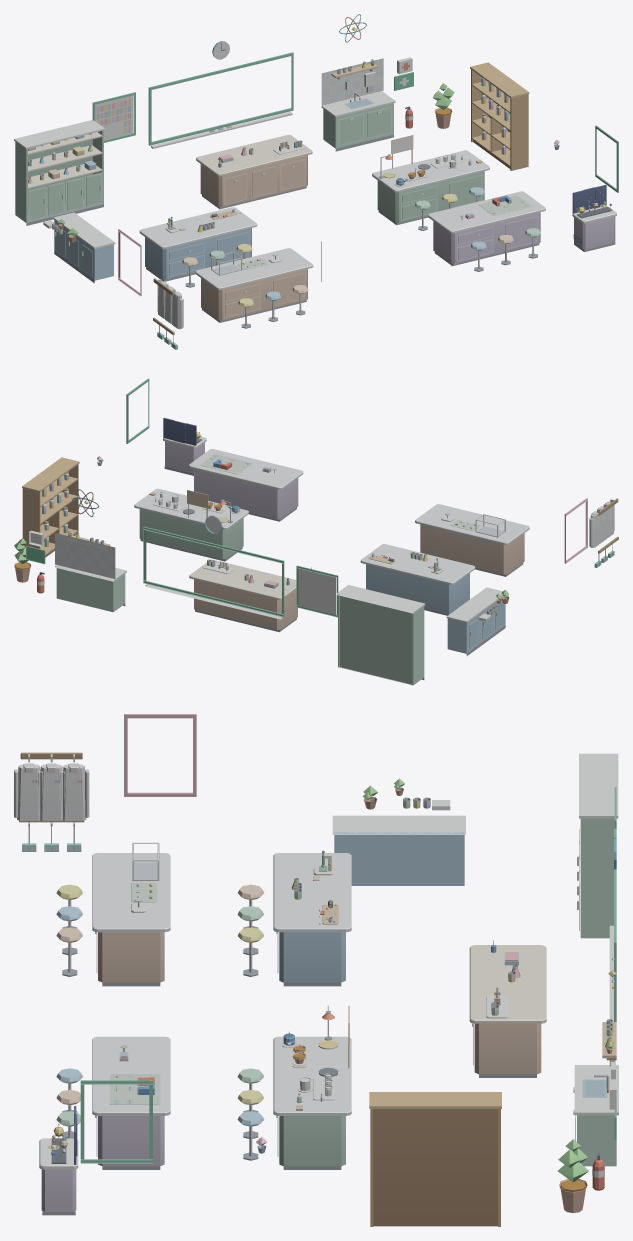
The model's file is makmal_interior_props.glb.
3 views of the same model, one above another, from view 1: azimuth 30°, elevation 25°; view 2: azimuth 150°, elevation 25°; view 3: azimuth 270°, elevation 25° (orthographic). The views are drawn at different scales.
Parts seen in each view (by area): view 1: kabinet_radas_1, meja_guru, meja_makmal_3, meja_makmal_1, meja_makmal_4, meja_makmal_2, rak_balang, sinki_makmal, lalu_bingkai, kabinet_rendah, model_suria, lalu_ubin_sinki (+7 smaller); view 2: kabinet_radas_1, meja_makmal_3, meja_guru, meja_makmal_1, meja_makmal_4, meja_makmal_2, rak_balang, kabinet_rendah, lalu_bingkai, sinki_makmal, lalu_ubin_sinki, lalu_carta_berkala (+7 smaller); view 3: rak_balang, meja_makmal_1, meja_makmal_3, meja_makmal_2, meja_guru, meja_makmal_4, kabinet_rendah, kabinet_radas_1, rak_kot, sinki_makmal, lalu_bingkai, model_suria (+5 smaller).
Boxes of the visible parts, <box> form: kabinet_radas_1: <box>14,120,105,225</box>; meja_guru: <box>196,134,312,209</box>; meja_makmal_3: <box>195,248,313,328</box>; meja_makmal_1: <box>139,207,257,287</box>; meja_makmal_4: <box>428,191,545,271</box>; meja_makmal_2: <box>372,150,489,230</box>; rak_balang: <box>470,62,529,170</box>; sinki_makmal: <box>321,91,395,151</box>; lalu_bingkai: <box>118,52,618,296</box>; kabinet_rendah: <box>53,212,115,283</box>; model_suria: <box>572,185,616,251</box>; lalu_ubin_sinki: <box>321,58,383,105</box>; kabinet_radas_1: <box>336,585,425,685</box>; meja_makmal_3: <box>415,504,529,576</box>; meja_guru: <box>189,559,297,632</box>; meja_makmal_1: <box>360,544,475,615</box>; meja_makmal_4: <box>188,449,303,521</box>; meja_makmal_2: <box>134,488,248,561</box>; rak_balang: <box>22,457,79,557</box>; kabinet_rendah: <box>446,587,505,655</box>; lalu_bingkai: <box>126,378,587,619</box>; sinki_makmal: <box>55,565,126,612</box>; lalu_ubin_sinki: <box>55,533,115,578</box>; lalu_carta_berkala: <box>296,565,338,617</box>; rak_balang: <box>369,1092,501,1226</box>; meja_makmal_1: <box>237,853,351,986</box>; meja_makmal_3: <box>56,853,170,986</box>; meja_makmal_2: <box>237,1036,351,1169</box>; meja_guru: <box>469,940,546,1077</box>; meja_makmal_4: <box>56,1036,170,1169</box>; kabinet_rendah: <box>332,815,465,885</box>; kabinet_radas_1: <box>577,753,618,938</box>; rak_kot: <box>14,752,89,851</box>; sinki_makmal: <box>573,1065,618,1166</box>; lalu_bingkai: <box>80,714,616,1163</box>; model_suria: <box>39,1106,78,1215</box>.
Bounding box in the file's own units: 12 × 4.12 × 8.35.
